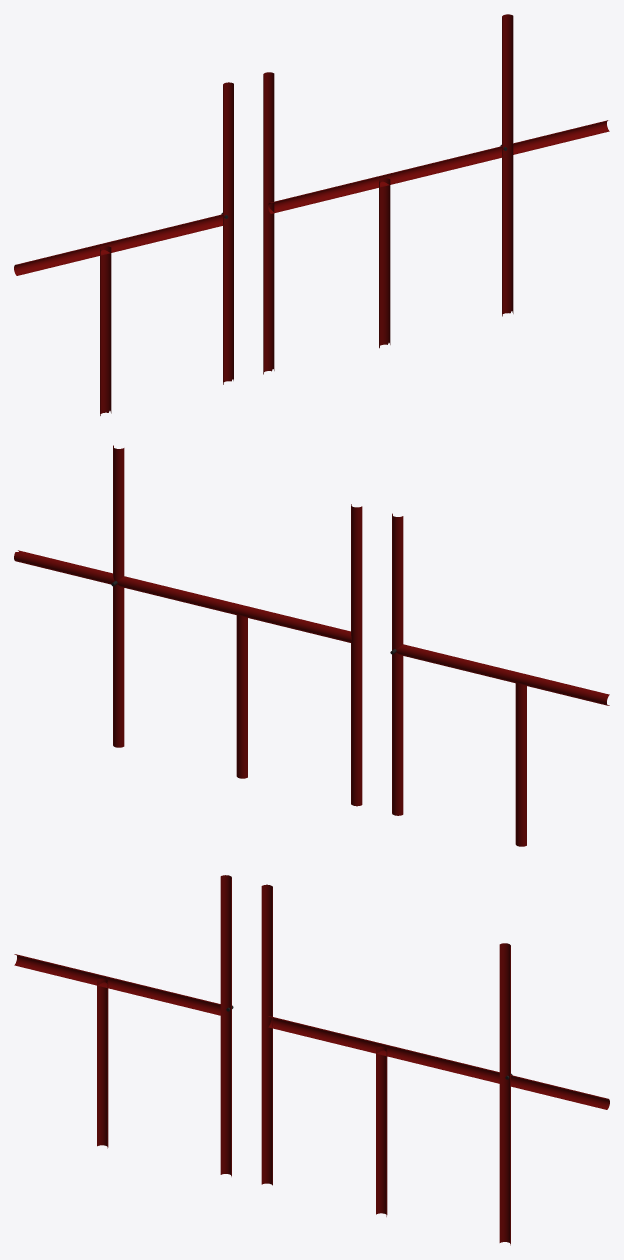
The model's file is Pipes.fbx.
The picture shows the model from 3 angles, top to bottom: view 1: azimuth 30°, elevation 25°; view 2: azimuth 150°, elevation 25°; view 3: azimuth 330°, elevation 25°; orthographic projection.
Visible parts, largest first — view 1: Pipes; view 2: Pipes; view 3: Pipes.
Boxes of the visible parts, x1,y1,x2,y2 form: Pipes: (14, 14, 609, 415); Pipes: (14, 445, 609, 846); Pipes: (14, 875, 609, 1245).
Size of the model in its own units: 11.59 by 5.6 by 0.2222.
